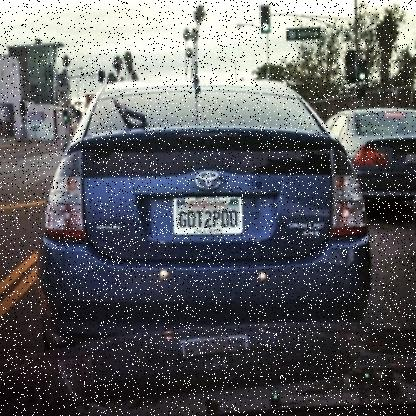licence: (172, 197, 244, 234)
